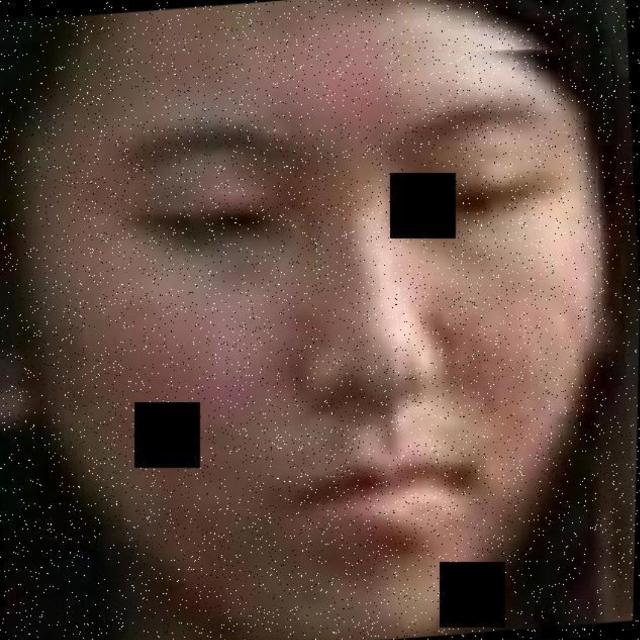Sad: (88, 45, 581, 640)
